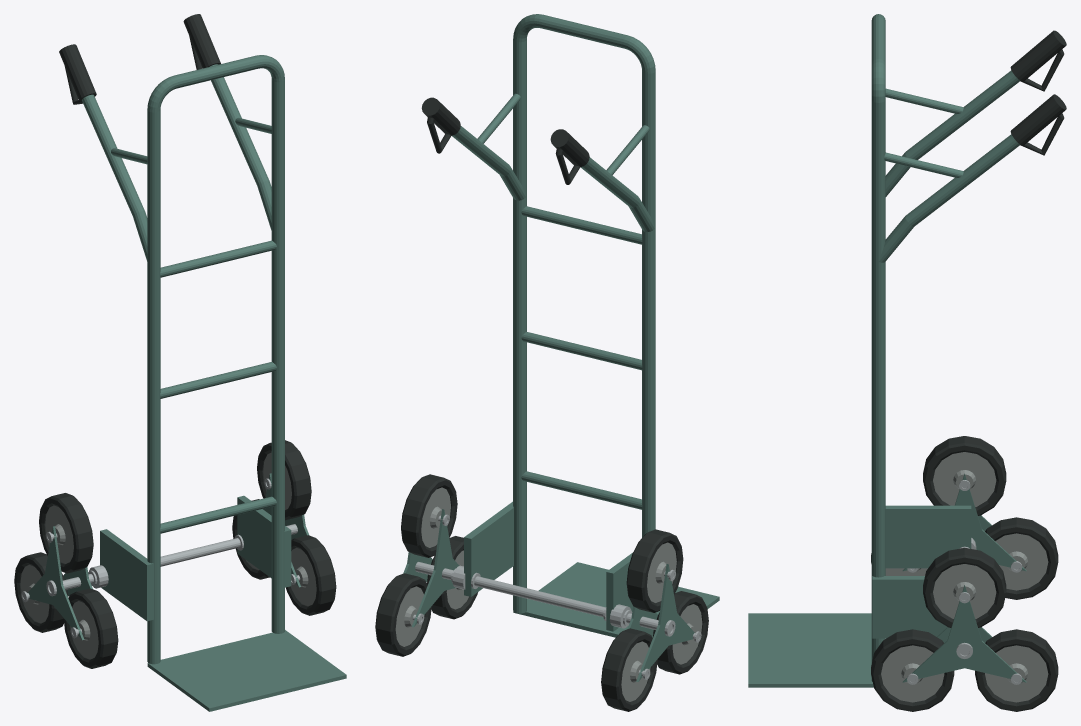
The picture shows the model from 3 angles, left to right: view 1: azimuth 30°, elevation 25°; view 2: azimuth 150°, elevation 25°; view 3: azimuth 270°, elevation 25°; orthographic projection. The views are drawn at different scales.
Visible parts, largest first — view 1: Main_load_frame_tube, Toe_plate_both_faces, Axle_bracket_web_-1, Axle_bracket_web_1, Tyre_-1_1, Tyre_-1_0, Handle_support_-1, Tyre_1_1, Handle_support_1, Tyre_1_0, Carrier_-1_outer, Tyre_-1_2 (+10 smaller); view 2: Main_load_frame_tube, Toe_plate_both_faces, Axle_bracket_web_1, Tyre_-1_0, Tyre_-1_2, Tyre_1_0, Tyre_1_2, Common_transverse_axle, Carrier_-1_outer, Carrier_1_inner, Tyre_-1_1, Handle_support_1 (+13 smaller); view 3: Toe_plate_both_faces, Main_load_frame_tube, Axle_bracket_web_-1, Axle_bracket_web_1, Carrier_1_outer, Handle_support_1, Tyre_1_0, Hub_-1_0, Tyre_1_2, Tyre_1_1, Hub_1_0, Tyre_-1_0 (+10 smaller).
Part boxes in pixels (box(x1,y1,x2,y2)): Main_load_frame_tube: box(147, 55, 284, 664); Toe_plate_both_faces: box(147, 630, 346, 711); Axle_bracket_web_-1: box(100, 529, 153, 621); Axle_bracket_web_1: box(237, 495, 291, 587); Tyre_-1_1: box(63, 588, 118, 668); Tyre_-1_0: box(39, 493, 93, 573); Handle_support_-1: box(82, 94, 147, 261); Tyre_1_1: box(286, 535, 336, 615); Handle_support_1: box(209, 64, 272, 231); Tyre_1_0: box(257, 440, 311, 520); Carrier_-1_outer: box(28, 526, 84, 640); Tyre_-1_2: box(14, 552, 68, 632); Main_load_frame_tube: box(513, 14, 655, 637); Toe_plate_both_faces: box(513, 562, 719, 637); Axle_bracket_web_1: box(464, 501, 513, 596); Tyre_-1_0: box(626, 529, 683, 612); Tyre_-1_2: box(601, 628, 657, 711); Tyre_1_0: box(401, 474, 457, 557); Tyre_1_2: box(375, 573, 431, 656); Common_transverse_axle: box(415, 562, 672, 632); Carrier_-1_outer: box(636, 564, 694, 681); Carrier_1_inner: box(412, 509, 459, 627); Tyre_-1_1: box(653, 591, 708, 674); Handle_support_1: box(452, 126, 525, 200); Toe_plate_both_faces: box(748, 613, 873, 687); Main_load_frame_tube: box(871, 14, 885, 681); Axle_bracket_web_-1: box(885, 505, 971, 568); Axle_bracket_web_1: box(872, 576, 946, 638); Carrier_1_outer: box(902, 585, 1026, 682); Handle_support_1: box(878, 134, 1019, 262); Tyre_1_0: box(923, 547, 1006, 627); Hub_-1_0: box(933, 452, 996, 506); Tyre_1_2: box(975, 629, 1058, 711); Tyre_1_1: box(871, 629, 954, 711); Hub_1_0: box(933, 564, 996, 618); Tyre_-1_0: box(923, 436, 1006, 515).
Bounding box in the file's own units: 0.59 × 1.3 × 0.6106.
